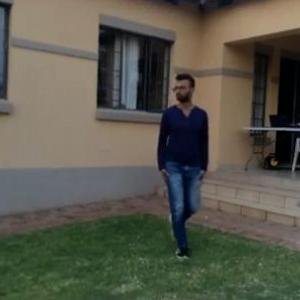follow: (153, 66, 212, 265)
